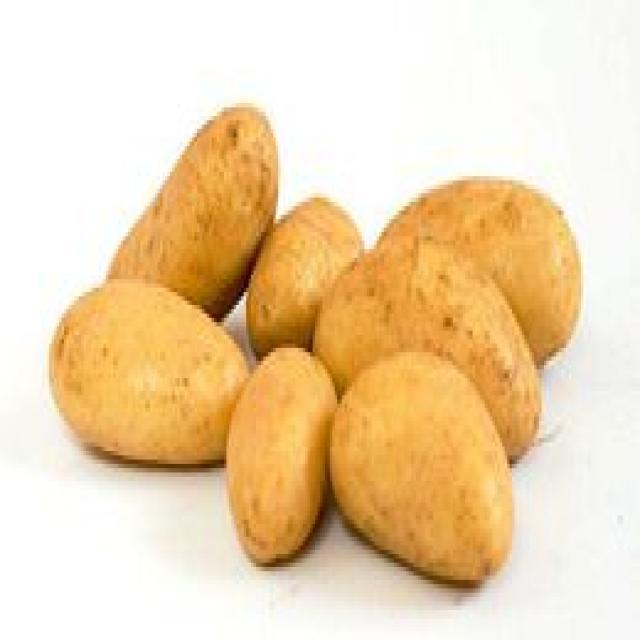Potato: (313, 182, 579, 466), (327, 351, 516, 589), (49, 277, 255, 471), (104, 106, 280, 324), (224, 347, 340, 569), (245, 198, 365, 362)
